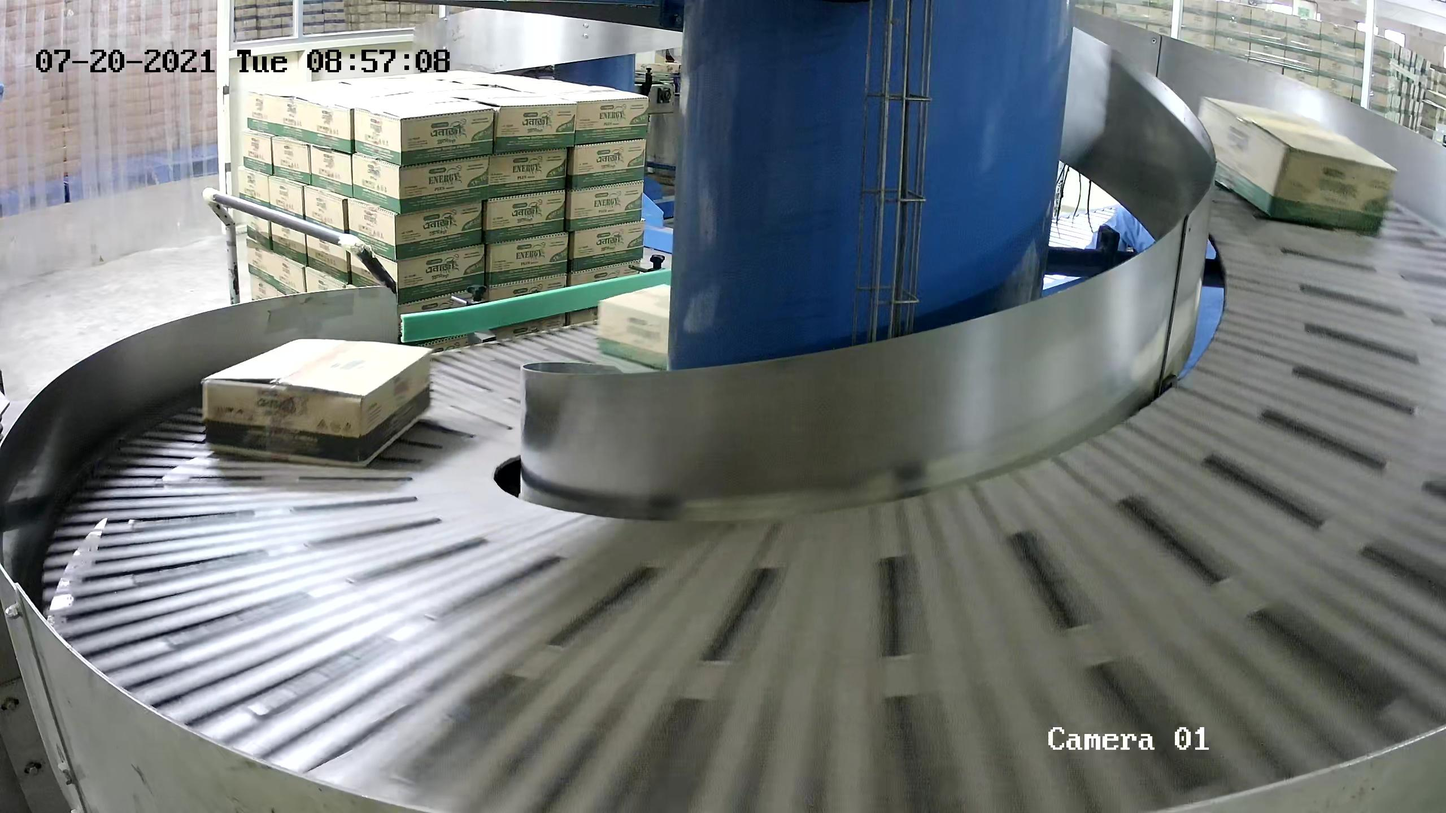Box: (1193, 90, 1398, 246), (203, 334, 434, 472), (598, 283, 747, 381)
